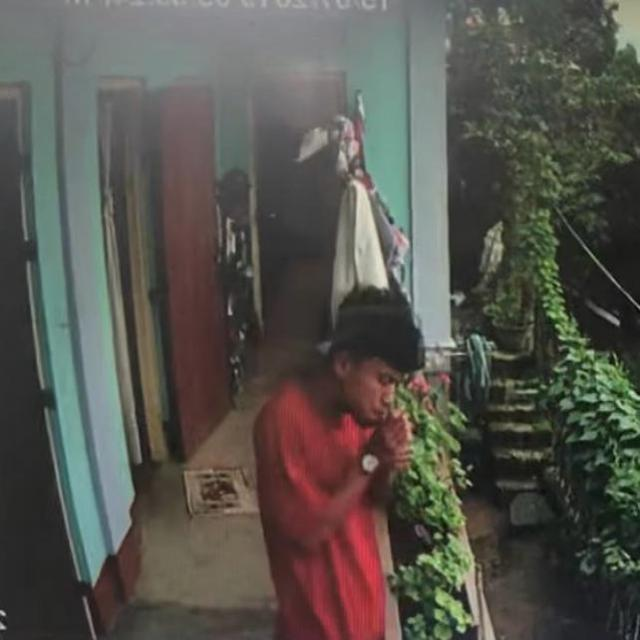cigarette: (367, 395, 420, 447)
